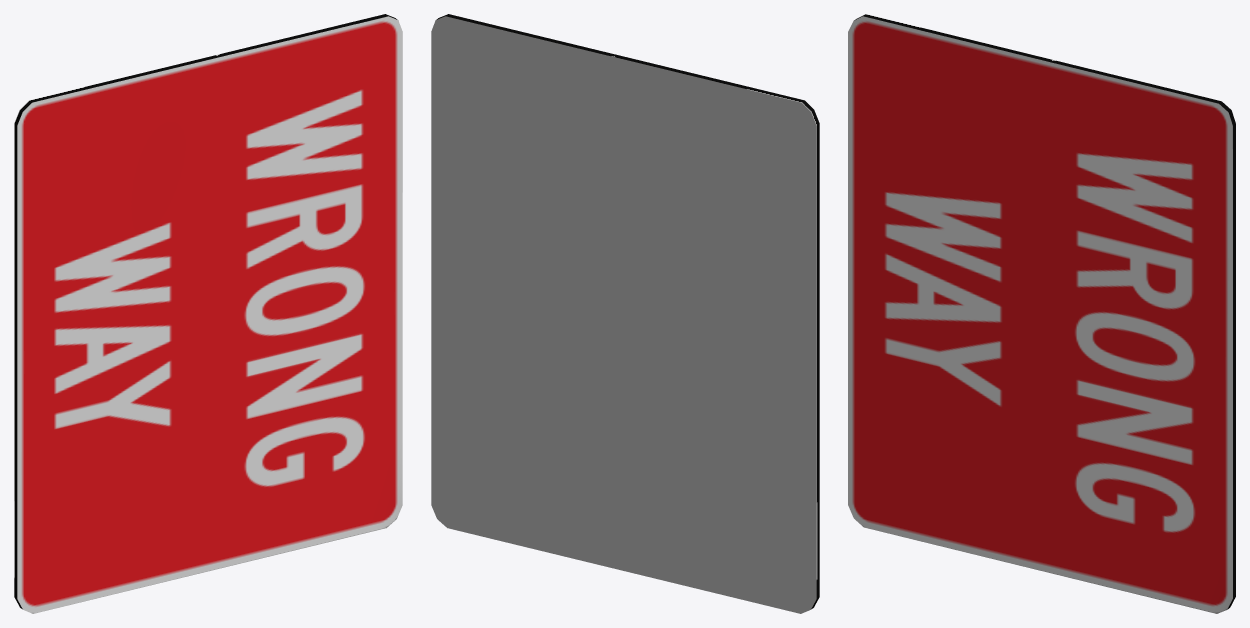
Rendered from OneWaySign.fbx.
3 views of the same model, side by side, from view 1: azimuth 30°, elevation 25°; view 2: azimuth 150°, elevation 25°; view 3: azimuth 330°, elevation 25° (orthographic).
Parts seen in each view (by area): view 1: Sign__LOD0; view 2: Sign__LOD0; view 3: Sign__LOD0.
Part boxes in pixels (bbox=[...]): Sign__LOD0: bbox=[14, 14, 402, 613]; Sign__LOD0: bbox=[431, 14, 819, 613]; Sign__LOD0: bbox=[848, 14, 1235, 613].
Size of what is drawn, in the model's own units: 484 by 615 by 6.67.
